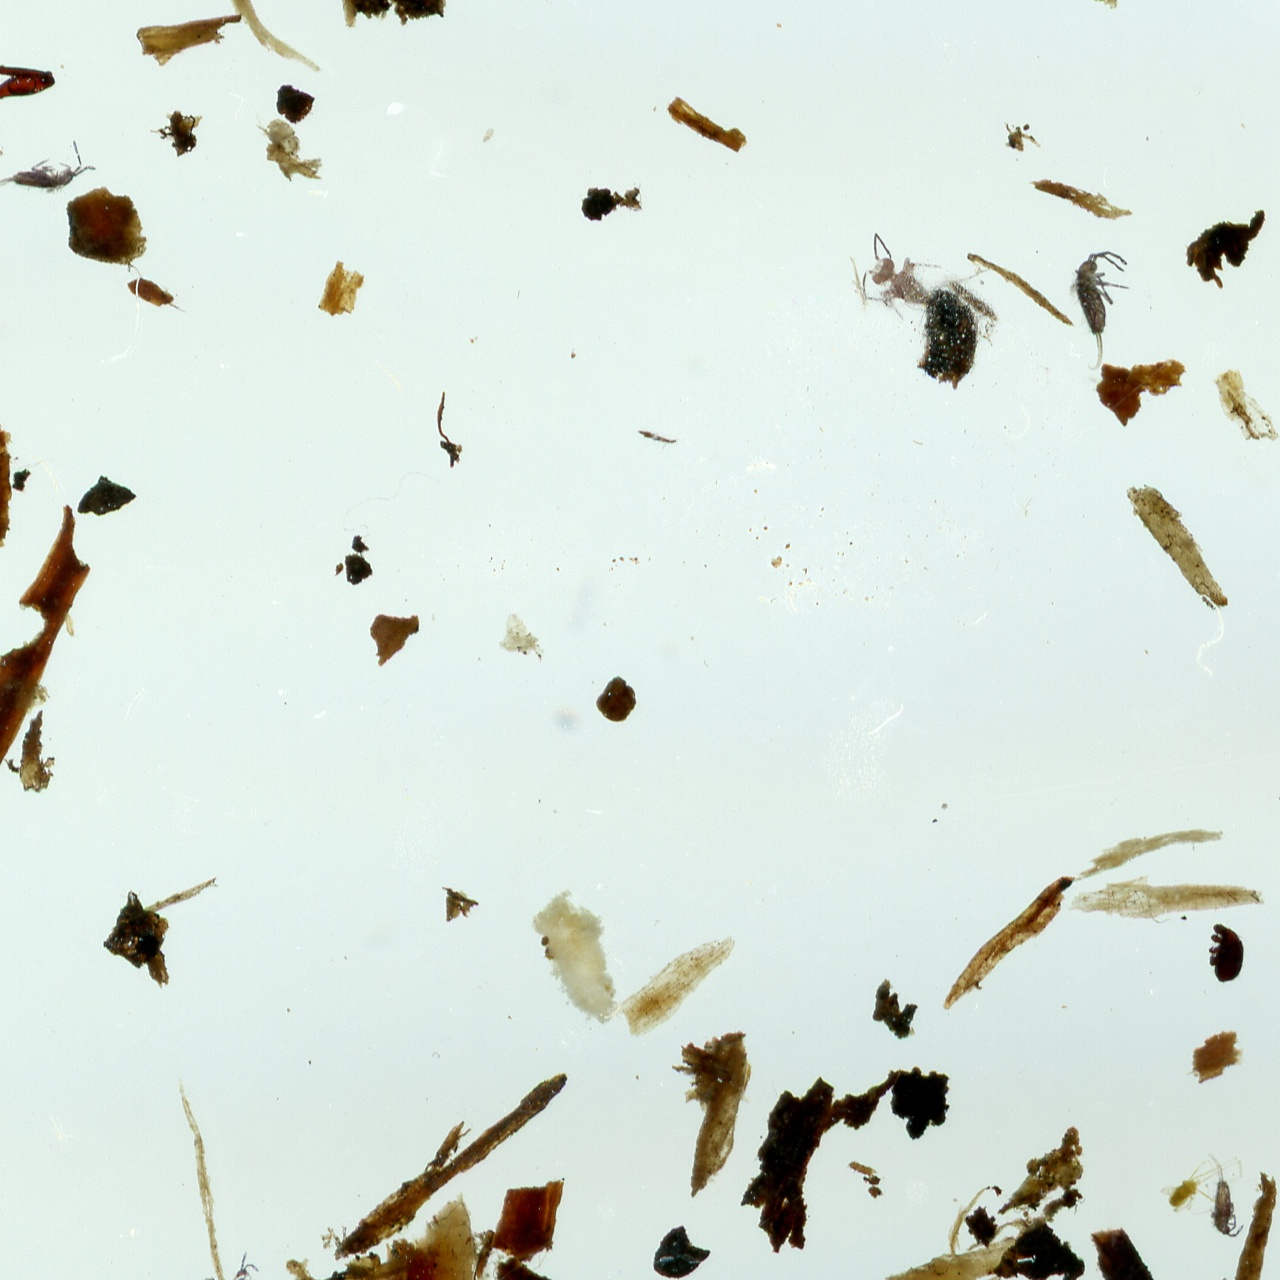arthropod: (836, 218, 960, 340), (1151, 1134, 1257, 1233), (1060, 247, 1133, 373), (0, 137, 100, 205), (1205, 1149, 1247, 1242), (1205, 920, 1247, 985), (229, 1249, 261, 1280)
